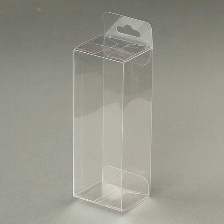plastic_box: (63, 4, 165, 217)
